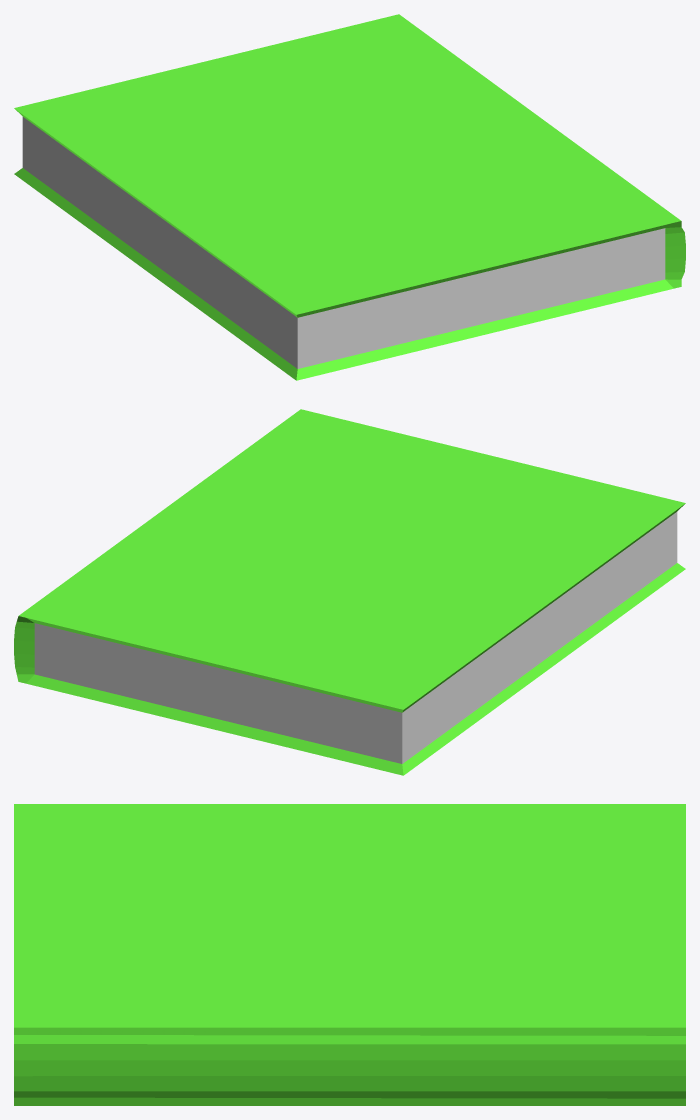
Rendered from verde.fbx.
The picture shows the model from 3 angles, top to bottom: view 1: azimuth 30°, elevation 25°; view 2: azimuth 150°, elevation 25°; view 3: azimuth 270°, elevation 25°; orthographic projection. The views are drawn at different scales.
Parts seen in each view (by area): view 1: Cubo.019; view 2: Cubo.019; view 3: Cubo.019.
Boxes of the visible parts, x1,y1,x2,y2 form: Cubo.019: [14, 14, 685, 380]; Cubo.019: [14, 409, 685, 775]; Cubo.019: [14, 804, 685, 1105].
Size of the model in its own units: 108 by 17.43 by 135.
